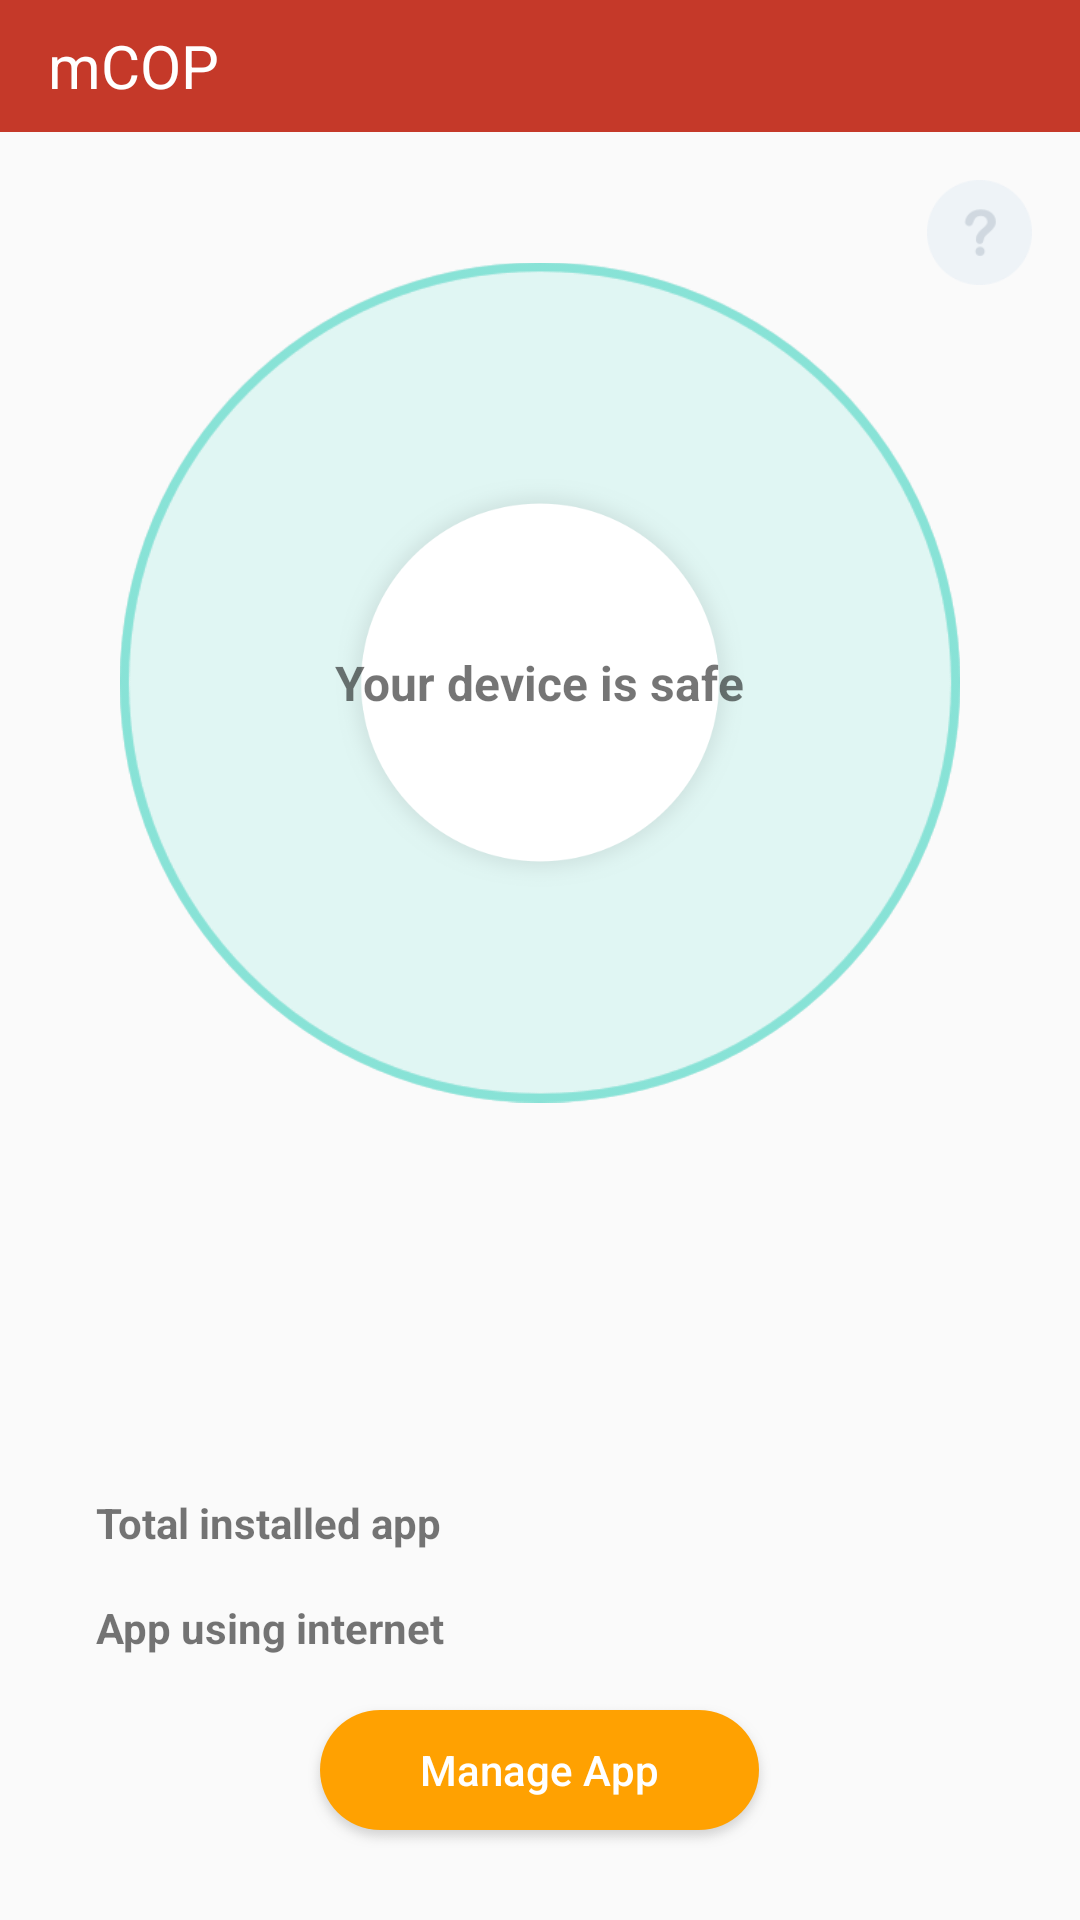

Where to tap for icons on this 1080px x 1920px app screen, as (x,y):
about: (979,232)
